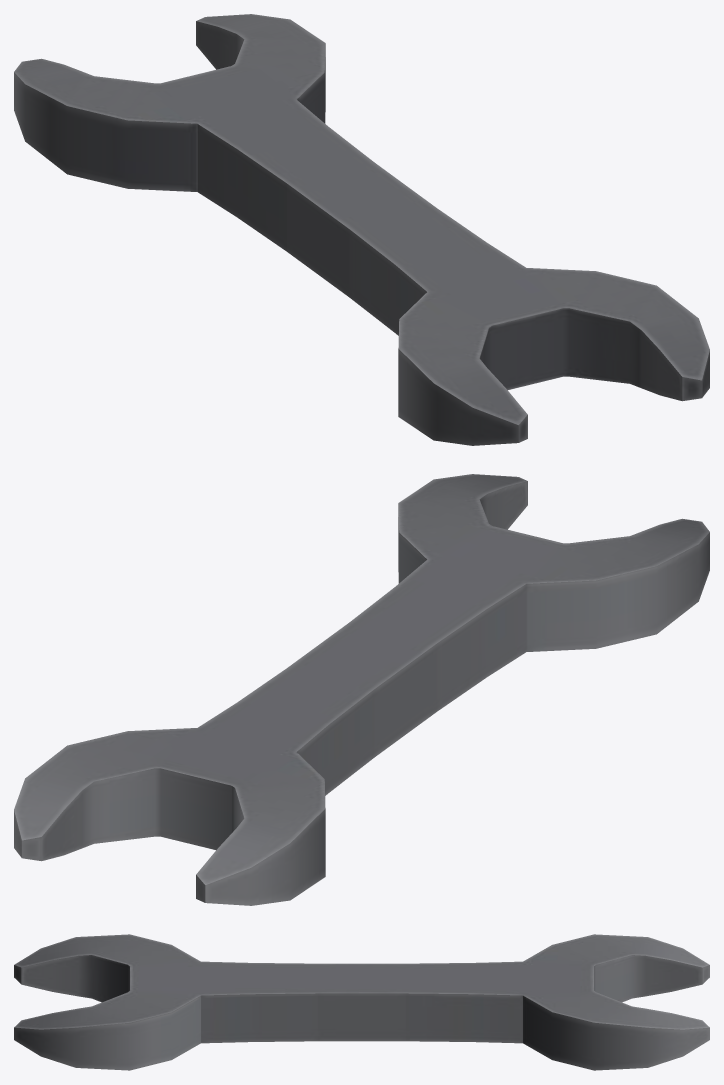
Rendered from wrench.glb.
3 renders of one model, top to bottom at view 1: azimuth 30°, elevation 25°; view 2: azimuth 150°, elevation 25°; view 3: azimuth 270°, elevation 25°, orthographic. The views are drawn at different scales.
Size of the model in its own units: 0.3083 by 0.0759 by 1.
Materials: 1 (1 with a texture image).
